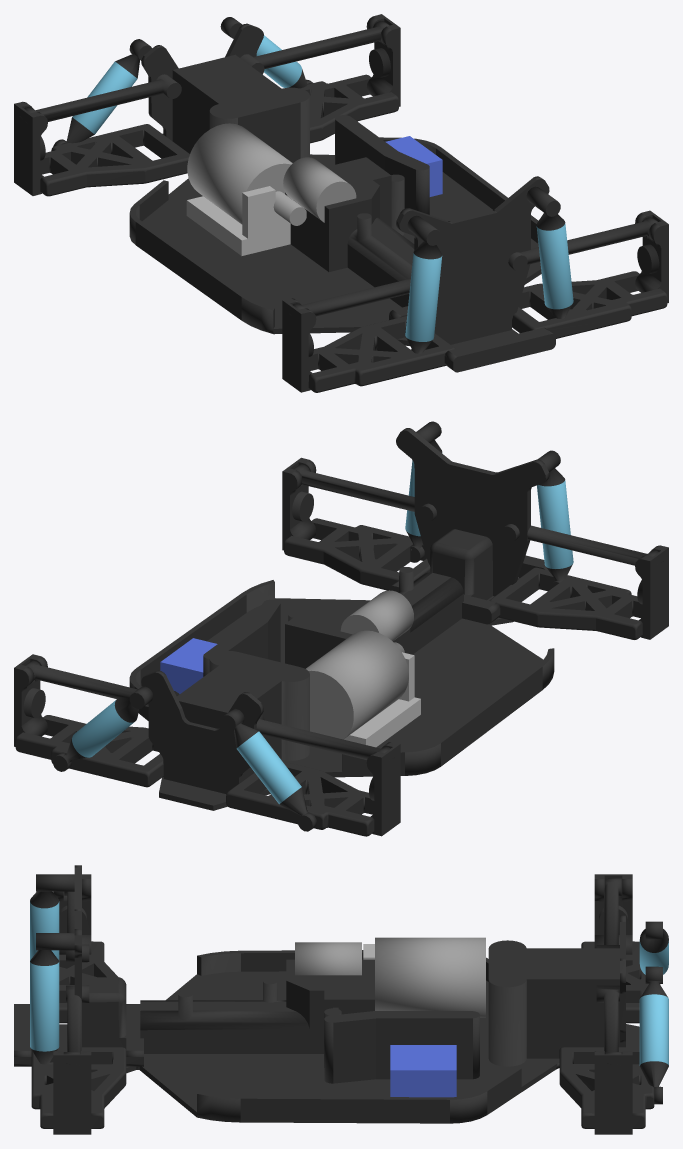
3 views of the same model, one above another, from view 1: azimuth 30°, elevation 25°; view 2: azimuth 150°, elevation 25°; view 3: azimuth 270°, elevation 25° (orthographic).
Visible parts, largest first — view 1: base_link; view 2: base_link; view 3: base_link.
Boxes of the visible parts, left/top/right/bottom form: base_link: left=14, top=14, right=668, bottom=392; base_link: left=14, top=421, right=668, bottom=836; base_link: left=14, top=865, right=668, bottom=1134.
Size of the model in its own units: 0.1467 by 0.2244 by 0.0569.
